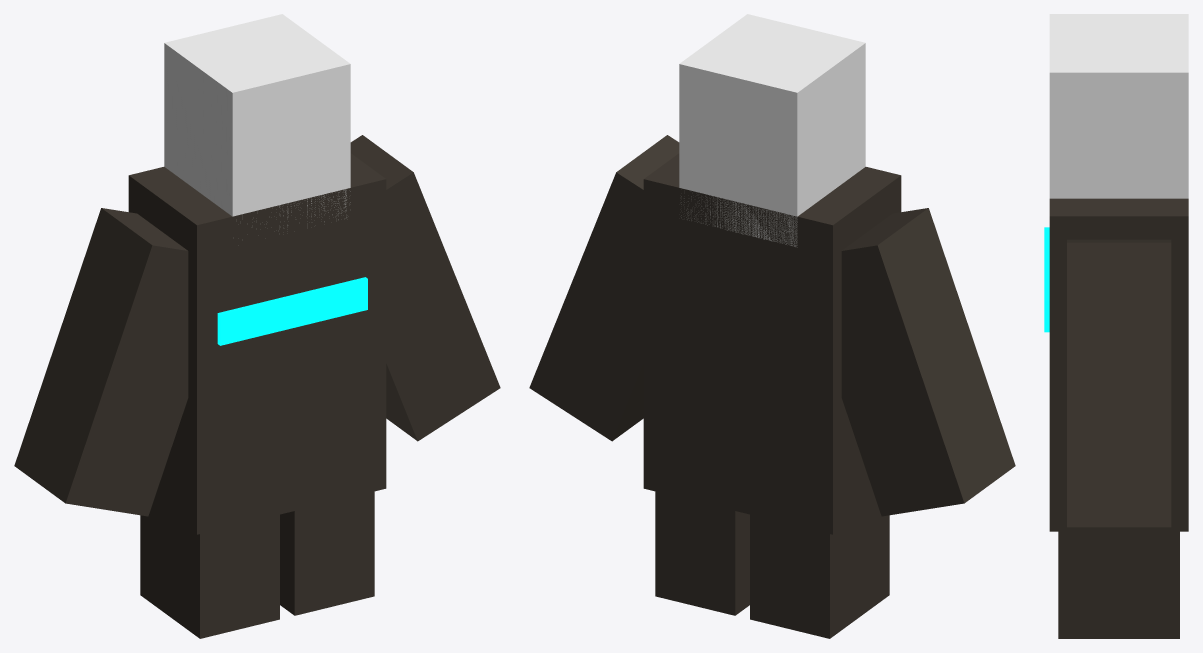
File: alvin.glb
The picture shows the model from 3 angles, left to right: view 1: azimuth 30°, elevation 25°; view 2: azimuth 150°, elevation 25°; view 3: azimuth 270°, elevation 25°; orthographic projection.
Visible parts, largest first — view 1: Torso, Arm_L, Head, Arm_R, Leg_L, Leg_R, Glow_Strip; view 2: Torso, Arm_L, Head, Arm_R, Leg_L, Leg_R; view 3: Arm_R, Head, Torso, Leg_R, Glow_Strip.
Part boxes in pixels (x1,y1,x2,y2): Torso: (128, 153, 386, 534); Arm_L: (14, 208, 188, 516); Head: (164, 14, 350, 225); Arm_R: (350, 135, 500, 441); Leg_L: (140, 503, 279, 638); Leg_R: (280, 491, 374, 615); Glow_Strip: (217, 277, 367, 345); Torso: (643, 153, 901, 534); Arm_L: (841, 208, 1015, 516); Head: (679, 14, 865, 247); Arm_R: (529, 135, 679, 441); Leg_L: (750, 503, 889, 638); Leg_R: (655, 491, 749, 615); Arm_R: (1067, 239, 1171, 527); Head: (1049, 14, 1188, 198); Torso: (1049, 198, 1188, 531); Leg_R: (1058, 531, 1179, 638); Glow_Strip: (1044, 227, 1049, 332).
Size of the model in its own units: 1.47 by 1.75 by 0.415.
